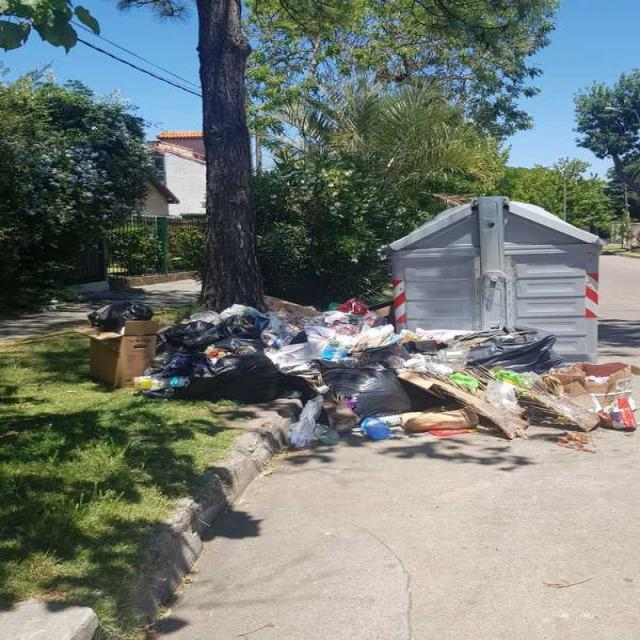garbage: (174, 302, 639, 436), (84, 307, 174, 393)
